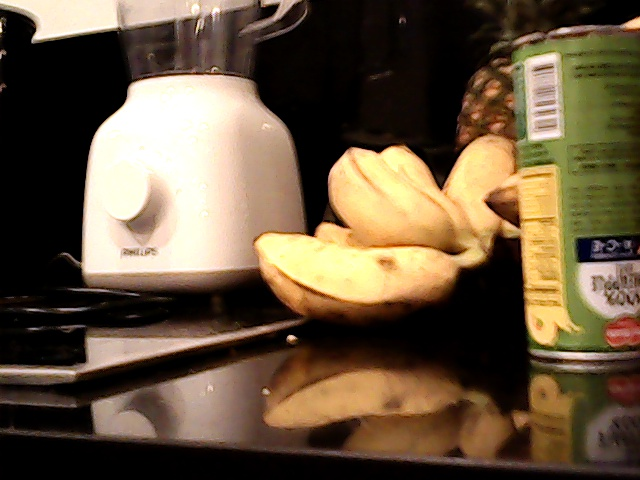Pine Juice: (518, 22, 640, 383)
